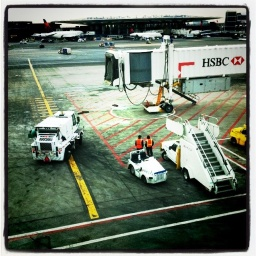person: (145, 132, 156, 157), (134, 132, 144, 154)
truck: (29, 106, 86, 166)
